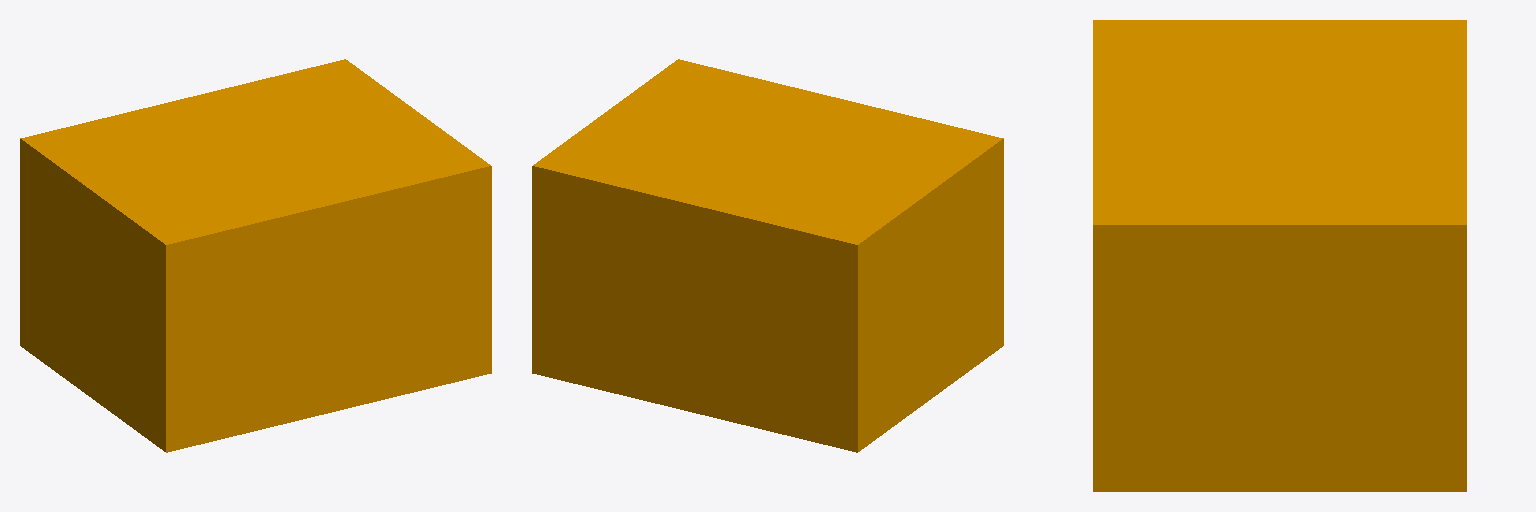
The robot description file, URDF, robot "object":
<?xml version="1.0"?>
<!-- Auto-generated by tools/gen_primitive_objects.py. kind=box dims=(0.087762, 0.068094, 0.053547) -->
<robot name="object">
  <link name="object">
    <visual>
      <origin xyz="0 0 0"/>
      <geometry>
        <box size="0.087762 0.068094 0.053547"/>
      </geometry>
    </visual>
    <collision>
      <origin xyz="0 0 0"/>
      <geometry>
        <box size="0.087762 0.068094 0.053547"/>
      </geometry>
    </collision>
    <inertial>
      <mass value="0.064000"/>
      <inertia ixx="0.00004002" ixy="0.0" ixz="0.0" iyy="0.00005637" iyz="0.0" izz="0.00006581"/>
    </inertial>
  </link>
</robot>

--- Render facts (derived) ---
3 views of the same robot in one strip: view 1: azimuth 30°, elevation 25°; view 2: azimuth 150°, elevation 25°; view 3: azimuth 270°, elevation 25° (orthographic).
Robot: object — 1 links, 0 joints (none); root link object; default pose: all joints at 0.
Visible links, largest first — view 1: object; view 2: object; view 3: object.
Boxes of the visible links, x1,y1,x2,y2 form: object: (20, 59, 491, 452); object: (532, 59, 1003, 452); object: (1093, 20, 1466, 491).
Bounding box of the posed robot: 0.0878 × 0.0681 × 0.0535 m (x, y, z).
Geometry: primitives only (box / cylinder / sphere), no mesh files.
